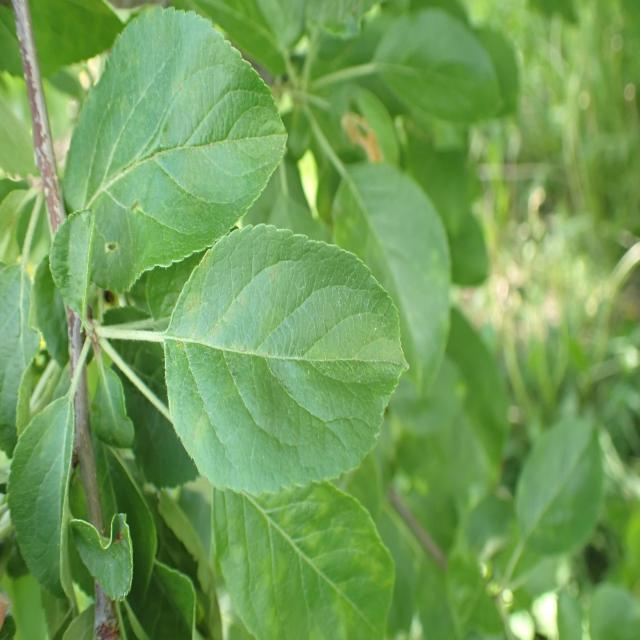scab: (133, 242, 392, 470)
